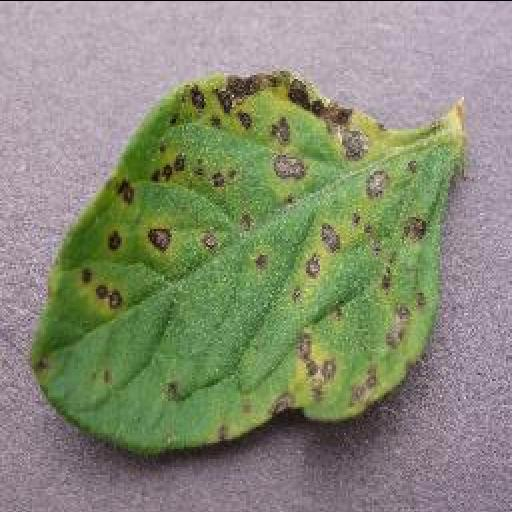disease_tomato: (25, 66, 459, 448)
